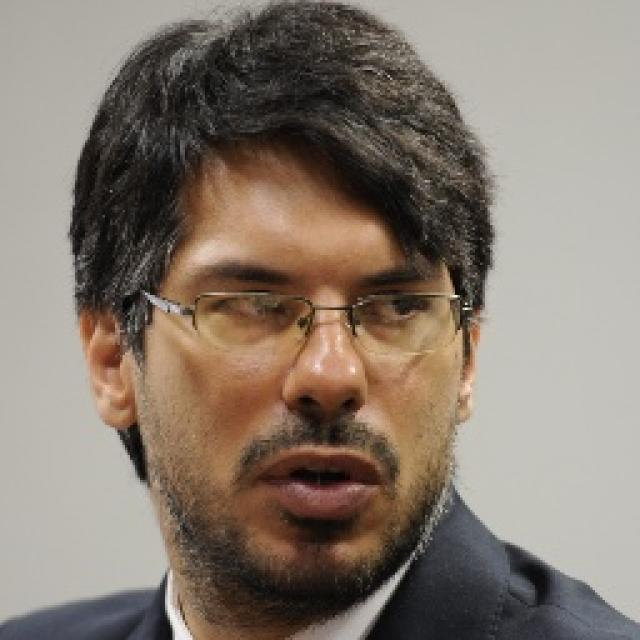earlobe: (75, 306, 138, 431), (457, 296, 486, 424)
